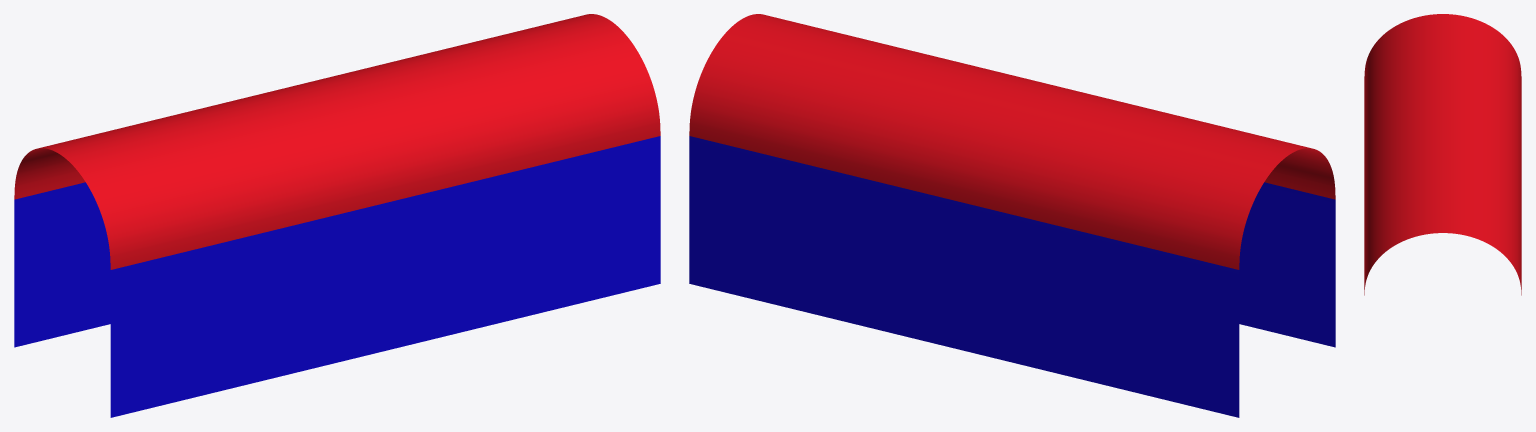
Rendered from Roof.fbx.
3 views of the same model, side by side, from view 1: azimuth 30°, elevation 25°; view 2: azimuth 150°, elevation 25°; view 3: azimuth 270°, elevation 25° (orthographic). The views are drawn at different scales.
Parts seen in each view (by area): view 1: Cylinder; view 2: Cylinder; view 3: Cylinder.
Boxes of the visible parts, left/top/right/bottom form: Cylinder: left=14, top=14, right=660, bottom=417; Cylinder: left=689, top=14, right=1335, bottom=417; Cylinder: left=1364, top=14, right=1521, bottom=295.
Size of the model in its own units: 2376 by 935 by 720.
